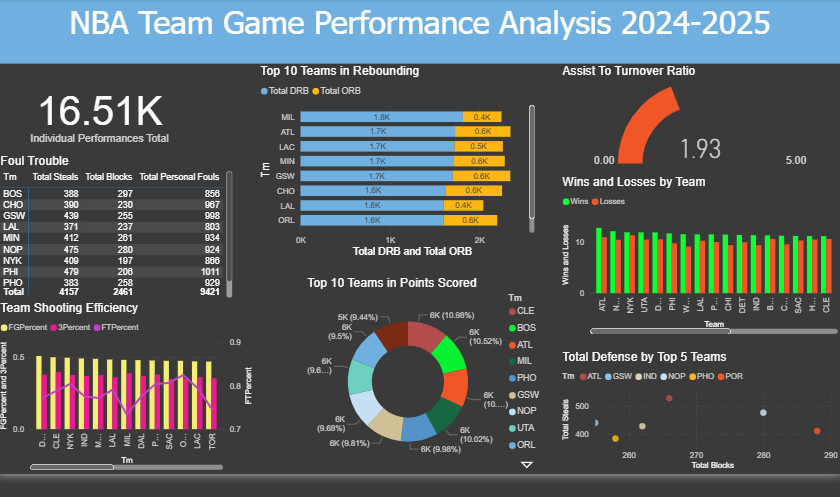

Layout of this report page (visuals, bound fields, positions):
{"tool":"powerbi","page":{"name":"Page 1","canvas":[1280,720],"ordinal":0},"visuals":[{"type":"card","fields":{"Values":["CountNonNull(database_24_25.Player)"]},"box":[0,98.5,310.5,151.5],"z":0},{"type":"donutChart","title":"Top 10 Teams in Points Scored","fields":{"Category":["database_24_25.Tm"],"Y":["database_24_25.Total Points"]},"box":[465.8,420.4,369.2,299.2],"z":1000},{"type":"textbox","box":[0,0,1280,98.5],"z":2000},{"type":"gauge","fields":{"Y":["database_24_25.Assist To Turnover Ratio"]},"box":[852.1,98.5,427.9,160.9],"z":3000},{"type":"barChart","title":"Top 10 Teams in Rebounding","fields":{"Y":["database_24_25.Total DRB","database_24_25.Total ORB"],"Category":["database_24_25.Tm"]},"box":[393.8,98.5,426,297.3],"z":4000},{"type":"scatterChart","title":"Total Defense by Top 5 Teams","fields":{"X":["database_24_25.Total Blocks"],"Series":["database_24_25.Tm"],"Y":["database_24_25.Total Steals"]},"box":[852.1,532.1,427.9,187.5],"z":5000},{"type":"pivotTable","title":"Foul Trouble","fields":{"Rows":["database_24_25.Tm"],"Values":["database_24_25.Total Steals","database_24_25.Total Blocks","database_24_25.Total Personal Fouls"]},"box":[0,234.8,361.7,223.4],"z":6000},{"type":"clusteredColumnChart","fields":{"Category":["database_24_25.Tm"],"Y":["database_24_25.AvgPointsWins","database_24_25.AvgPointsLosses"]},"box":[852.1,267,427.9,246.2],"z":7000},{"type":"lineClusteredColumnComboChart","title":"Team Shooting Efficiency","fields":{"Category":["database_24_25.Tm"],"Y":["database_24_25.FGPercent","database_24_25.3Percent"],"Y2":["database_24_25.FTPercent"]},"box":[0,458.2,393.8,261.3],"z":8000}]}

Visuals, with their boxes on the page's 1280x720 design canvas (x1, y1, x2, y2). These are canvas units, not pixel positions in the 840x497 screenshot, which may show the page scaled, cropped or inside an application window:
card - CountNonNull(database_24_25.Player): x1=0, y1=98, x2=310, y2=250
"Top 10 Teams in Points Scored" donutChart: x1=466, y1=420, x2=835, y2=720
textbox: x1=0, y1=0, x2=1280, y2=98
gauge - database_24_25.Assist To Turnover Ratio: x1=852, y1=98, x2=1280, y2=259
"Top 10 Teams in Rebounding" barChart: x1=394, y1=98, x2=820, y2=396
"Total Defense by Top 5 Teams" scatterChart: x1=852, y1=532, x2=1280, y2=720
"Foul Trouble" pivotTable: x1=0, y1=235, x2=362, y2=458
clusteredColumnChart - database_24_25.Tm x database_24_25.AvgPointsWins: x1=852, y1=267, x2=1280, y2=513
"Team Shooting Efficiency" lineClusteredColumnComboChart: x1=0, y1=458, x2=394, y2=720
